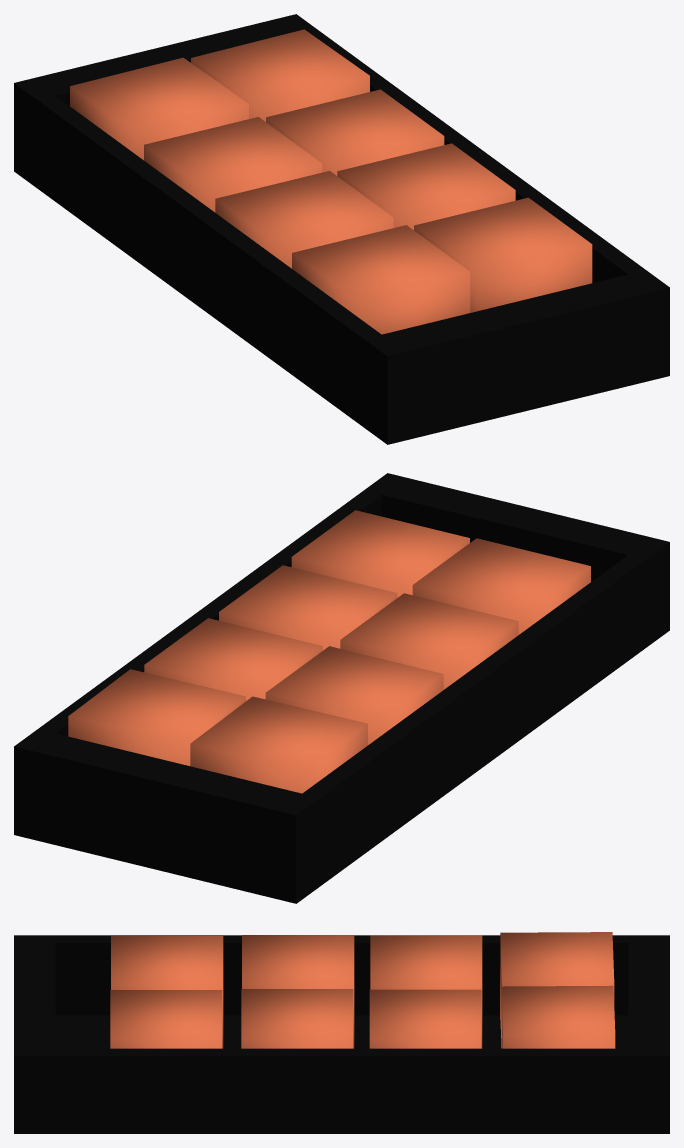
Rendered from BOLEN.fbx.
The picture shows the model from 3 angles, top to bottom: view 1: azimuth 30°, elevation 25°; view 2: azimuth 150°, elevation 25°; view 3: azimuth 270°, elevation 25°; orthographic projection. The views are drawn at different scales.
Parts seen in each view (by area): view 1: Cube, Cube.002, Cube.001, Cube.008, Cube.004, Cube.007, Cube.006, Cube.003, Cube.005; view 2: Cube, Cube.008, Cube.007, Cube.002, Cube.004, Cube.006, Cube.001, Cube.003, Cube.005; view 3: Cube, Cube.007, Cube.003, Cube.005, Cube.001, Cube.006, Cube.008, Cube.004, Cube.002.
Boxes of the visible parts, bbox=[...] form: Cube: bbox=[14, 14, 669, 444]; Cube.002: bbox=[292, 225, 470, 334]; Cube.001: bbox=[414, 197, 592, 312]; Cube.008: bbox=[70, 57, 248, 160]; Cube.004: bbox=[215, 171, 393, 268]; Cube.007: bbox=[191, 29, 369, 121]; Cube.006: bbox=[144, 117, 322, 212]; Cube.003: bbox=[337, 143, 515, 229]; Cube.005: bbox=[266, 89, 444, 175]; Cube: bbox=[14, 473, 669, 903]; Cube.008: bbox=[190, 696, 367, 793]; Cube.007: bbox=[68, 669, 245, 765]; Cube.002: bbox=[412, 538, 590, 634]; Cube.004: bbox=[340, 593, 518, 689]; Cube.006: bbox=[265, 646, 443, 744]; Cube.001: bbox=[291, 510, 469, 597]; Cube.003: bbox=[219, 565, 397, 650]; Cube.005: bbox=[144, 618, 322, 700]; Cube: bbox=[14, 935, 669, 1133]; Cube.007: bbox=[501, 985, 615, 1048]; Cube.003: bbox=[241, 989, 353, 1048]; Cube.005: bbox=[369, 989, 481, 1048]; Cube.001: bbox=[110, 990, 222, 1048]; Cube.006: bbox=[370, 935, 482, 1048]; Cube.008: bbox=[500, 932, 614, 1047]; Cube.004: bbox=[242, 935, 354, 1048]; Cube.002: bbox=[111, 936, 223, 1048].
Bounding box in the file's own units: 58.91 × 20.64 × 135.
